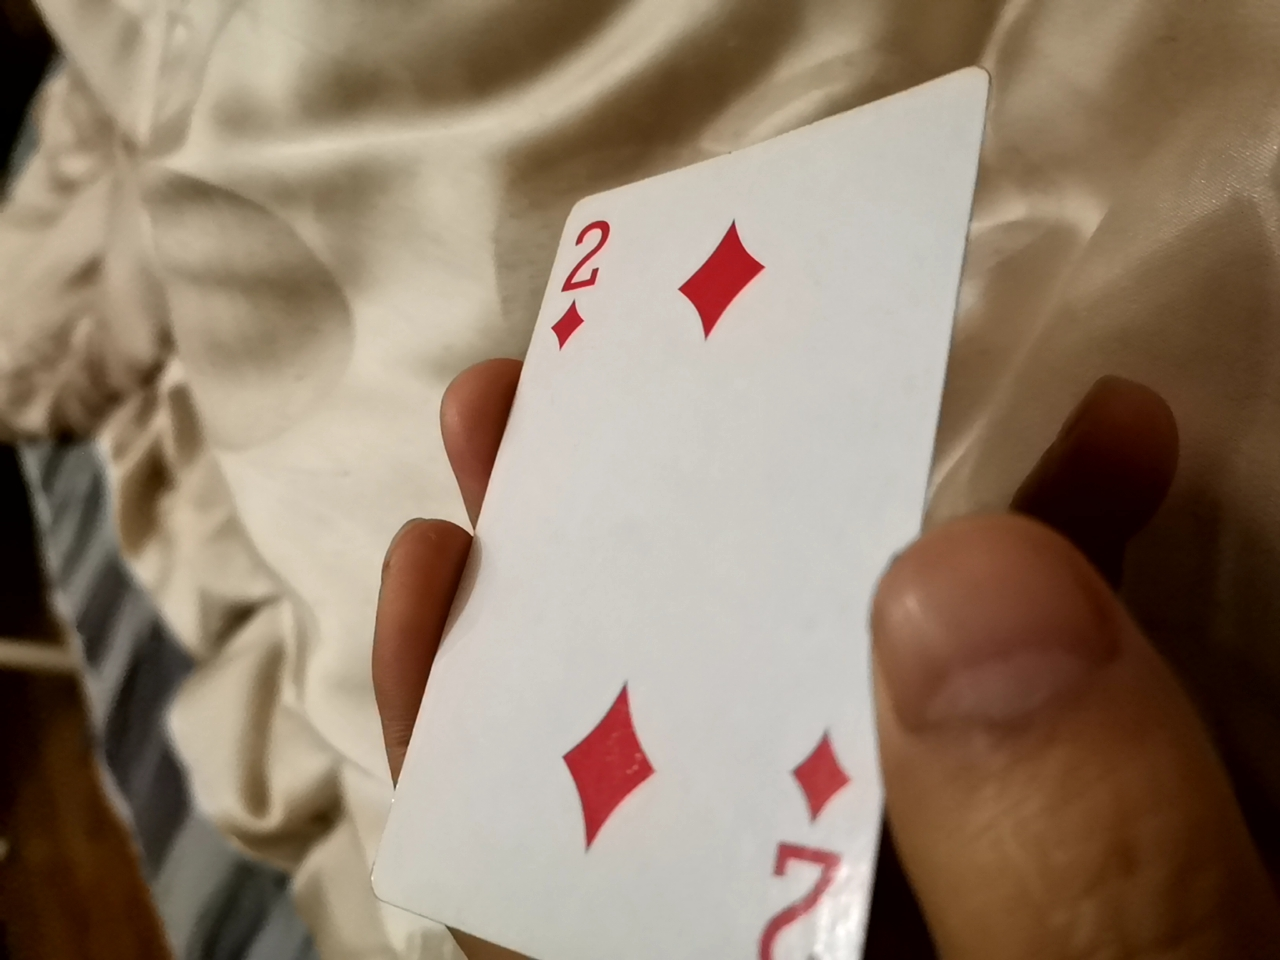fk 2: (297, 81, 987, 960)
